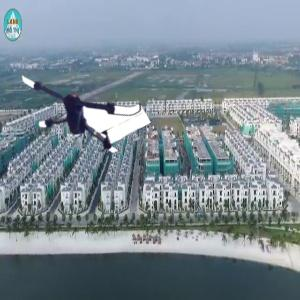drone: (18, 50, 136, 168)
